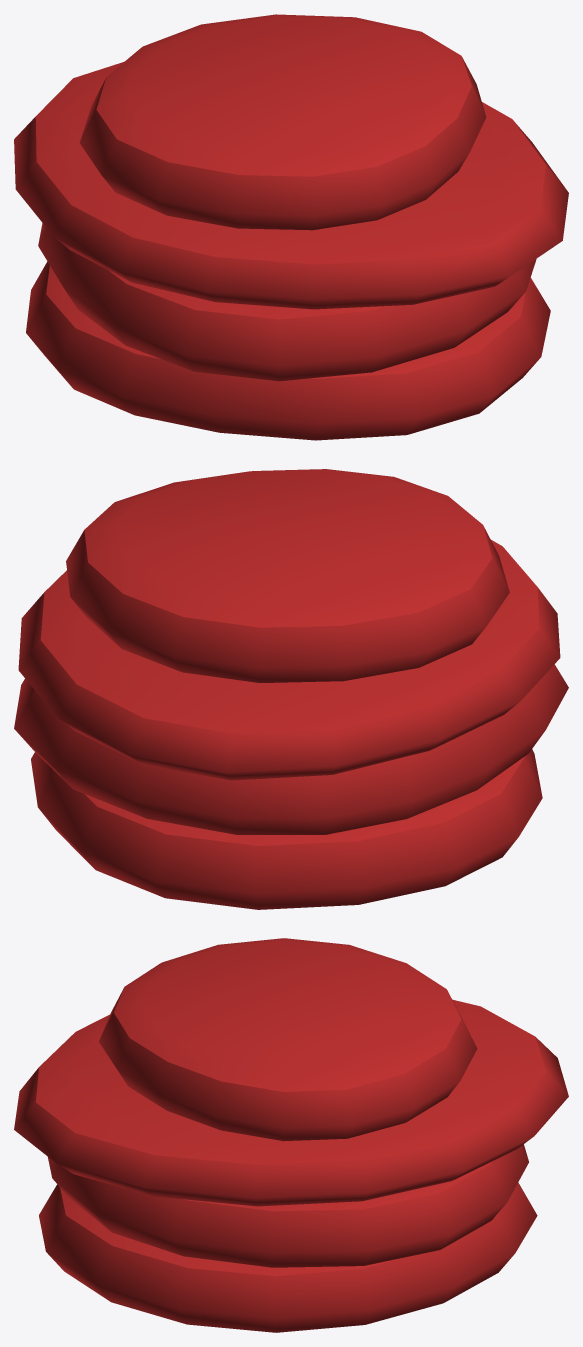
Rendered from SM_bread_stacked.fbx.
The picture shows the model from 3 angles, top to bottom: view 1: azimuth 30°, elevation 25°; view 2: azimuth 150°, elevation 25°; view 3: azimuth 270°, elevation 25°; orthographic projection. The views are drawn at different scales.
Visible parts, largest first — view 1: Cylinder424349; view 2: Cylinder424349; view 3: Cylinder424349.
Boxes of the visible parts, bbox=[...] form: Cylinder424349: bbox=[14, 14, 568, 440]; Cylinder424349: bbox=[14, 469, 568, 909]; Cylinder424349: bbox=[14, 938, 568, 1332].
Bounding box in the file's own units: 23.87 × 12.82 × 27.48.
